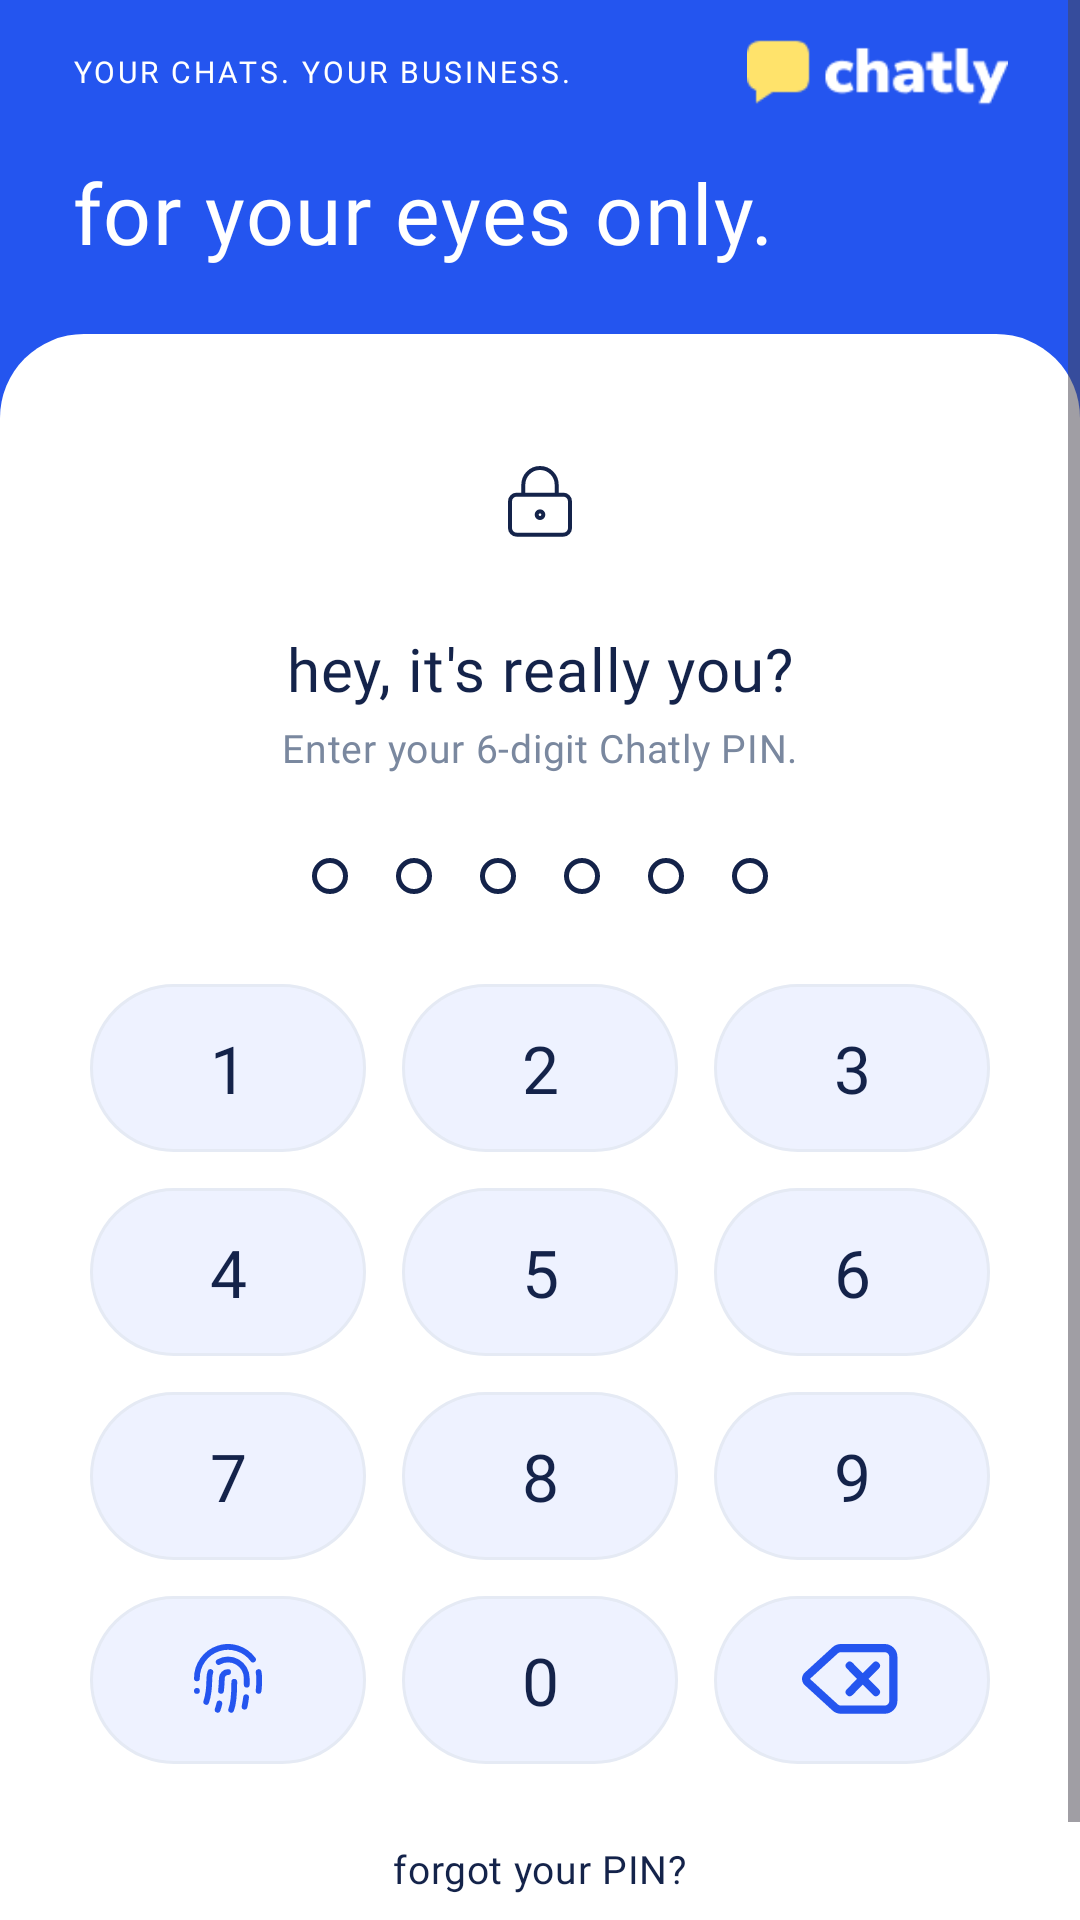

Icons on this 1080*1920 Android screen, each with its box as [left=x1, top=y1, right=x2, bottom=y2]:
Delete: [left=714, top=1596, right=990, bottom=1764]
Locked: [left=508, top=466, right=572, bottom=537]
Unlock with fingerprint: [left=90, top=1596, right=366, bottom=1764]
